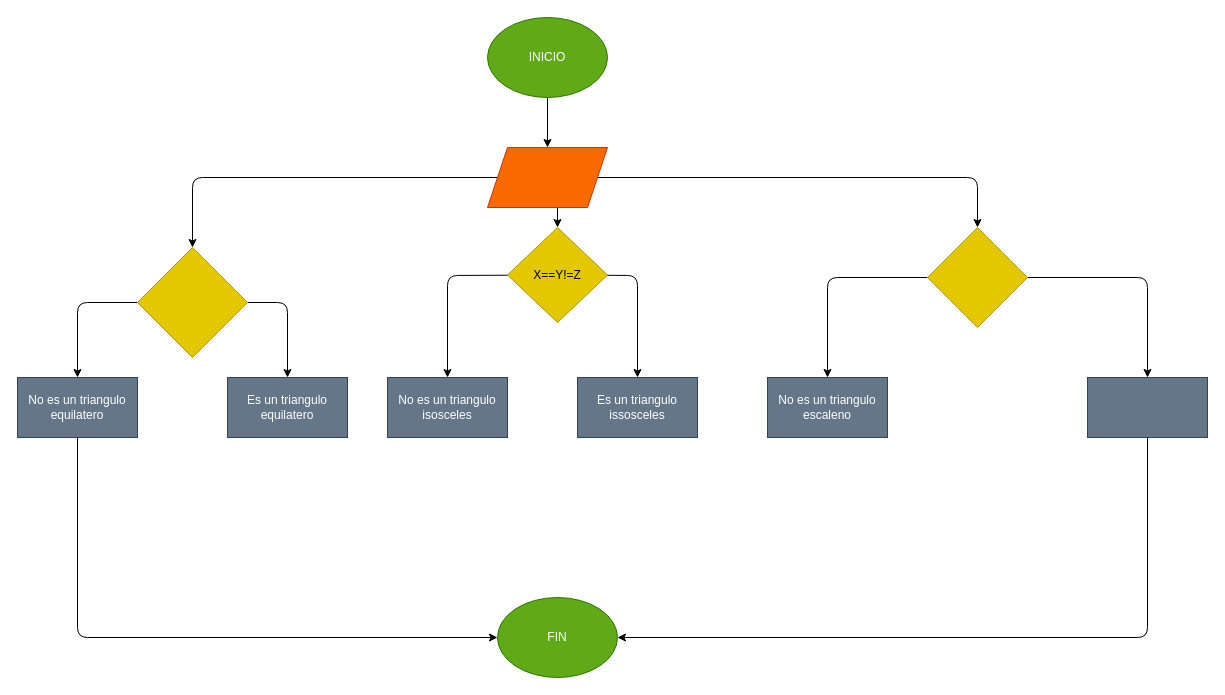
Some shapes in this 1225 by 695 pixel diagram are drawn without their labels. Each missing label, with the box of its shape:
Es un triangulo escaleno: (1086, 376, 1208, 438)
X!=Y!=Z: (926, 226, 1028, 328)
X, Y, Z: (486, 146, 608, 208)
X==Y==Z: (136, 246, 248, 358)
